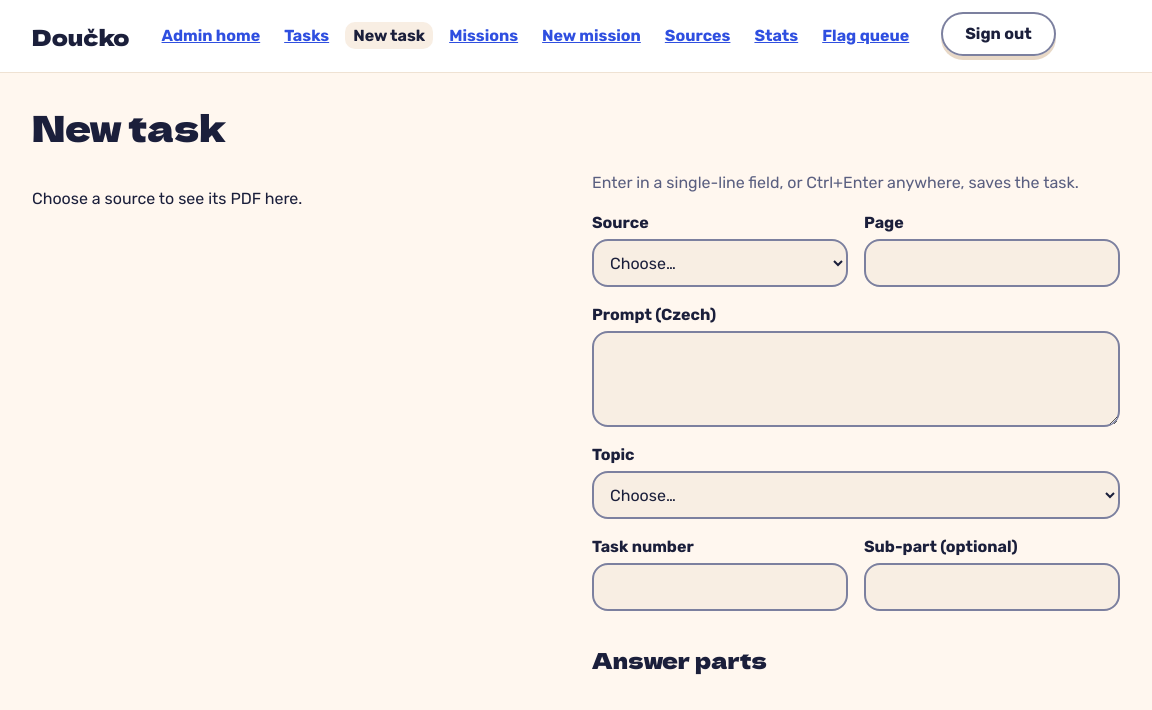
Test: new task form (FR-3) › without a source in the query asks for one and shows no viewer
This screenshot has width=1152, height=710.
Check: the heading "New task" is shown, box [32,100,226,152]
Check: the text "Choose a source to see its PDF here." is shown, box [32,189,302,208]
Select "Sbírka úloh 6" in the dropdown labelled "Source": (720,263) [592,239,848,287]
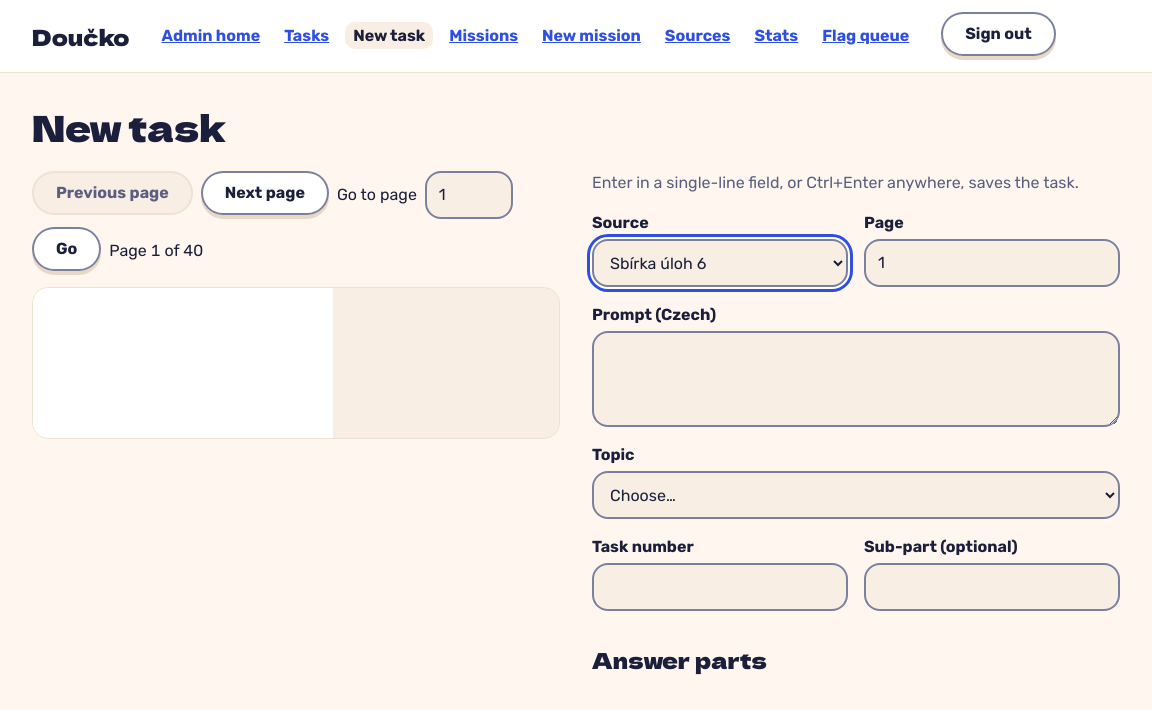
Check: the field labelled "Page" holds "1", box [864,239,1120,287]
